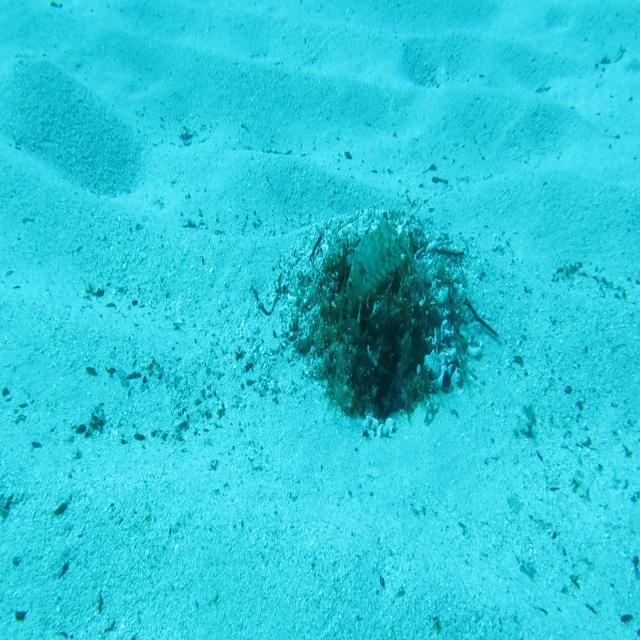NIP_IN: (340, 212, 414, 304)
core_nest: (350, 262, 406, 302)
nest: (272, 196, 496, 450)
